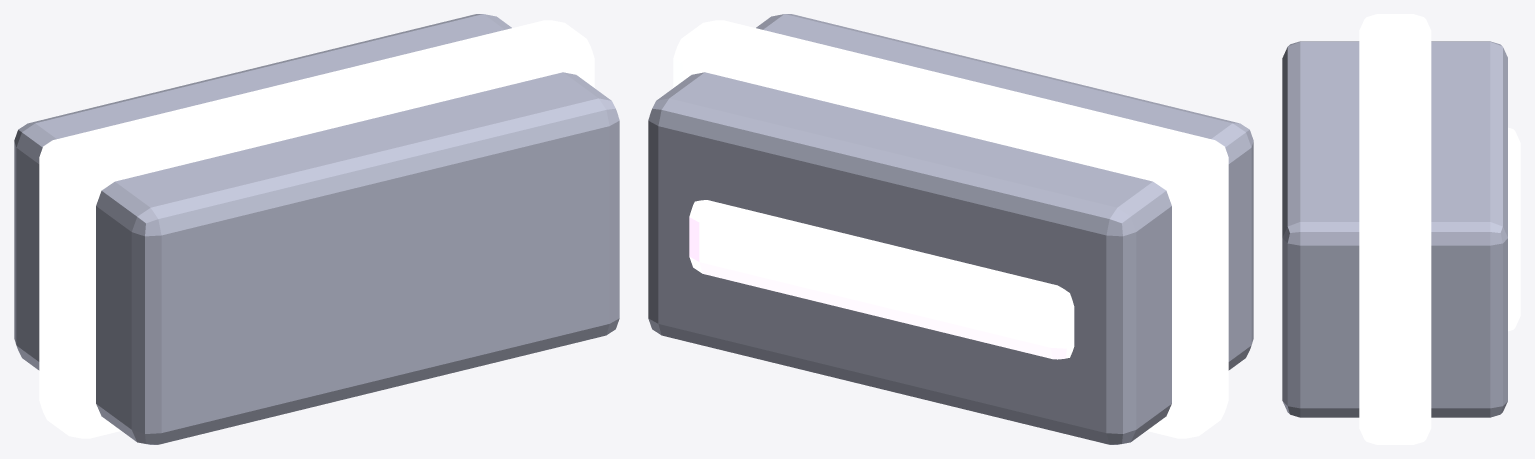
The model's file is brick_crystal.glb.
The picture shows the model from 3 angles, left to right: view 1: azimuth 30°, elevation 25°; view 2: azimuth 150°, elevation 25°; view 3: azimuth 270°, elevation 25°; orthographic projection. The views are drawn at different scales.
Parts seen in each view (by area): view 1: brick_crystal; view 2: brick_crystal; view 3: brick_crystal.
Part boxes in pixels (x1,y1,x2,y2): brick_crystal: [14, 14, 619, 444]; brick_crystal: [648, 14, 1253, 444]; brick_crystal: [1282, 14, 1520, 444].
Size of the model in its own units: 0.98 by 0.5 by 0.4642.
